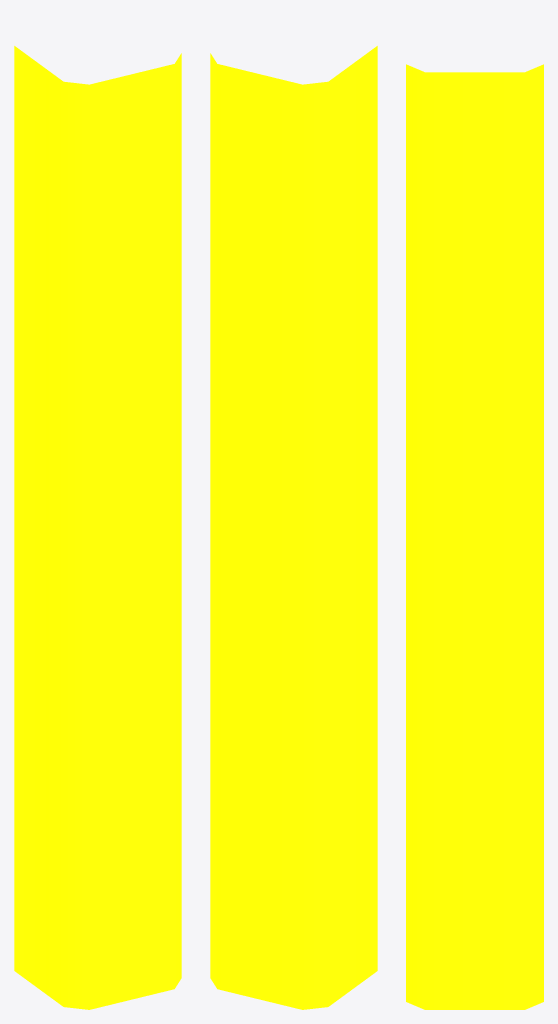
The model's file is column-free.glb.
3 renders of one model, left to right at view 1: azimuth 30°, elevation 25°; view 2: azimuth 150°, elevation 25°; view 3: azimuth 270°, elevation 25°, orthographic.
Parts seen in each view (by area): view 1: ColumnFree; view 2: ColumnFree; view 3: ColumnFree.
Part boxes in pixels (x1,y1,x2,y2): ColumnFree: (14,46,181,1009); ColumnFree: (210,46,377,1009); ColumnFree: (406,64,543,1009).
Size of the model in its own units: 0.4 by 3 by 0.4.
1 material, 1 textured.
